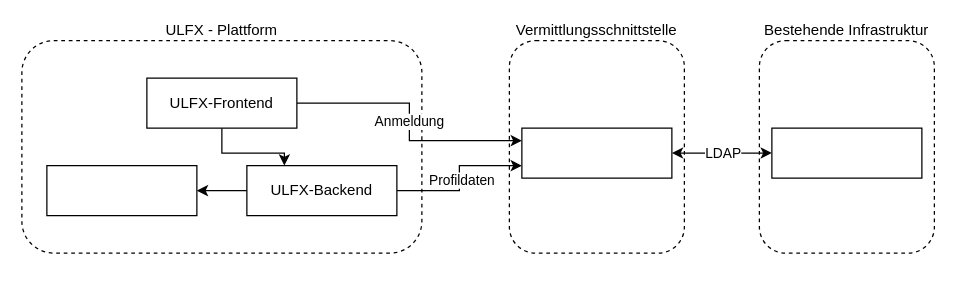
This 956x294 diagram has some shape labels left out. Each missing label, with the centre of its shape:
"Schul AD" belongs at point 846,152.
"SKA" belongs at point 596,152.
"SQLite" belongs at point 121,190.
